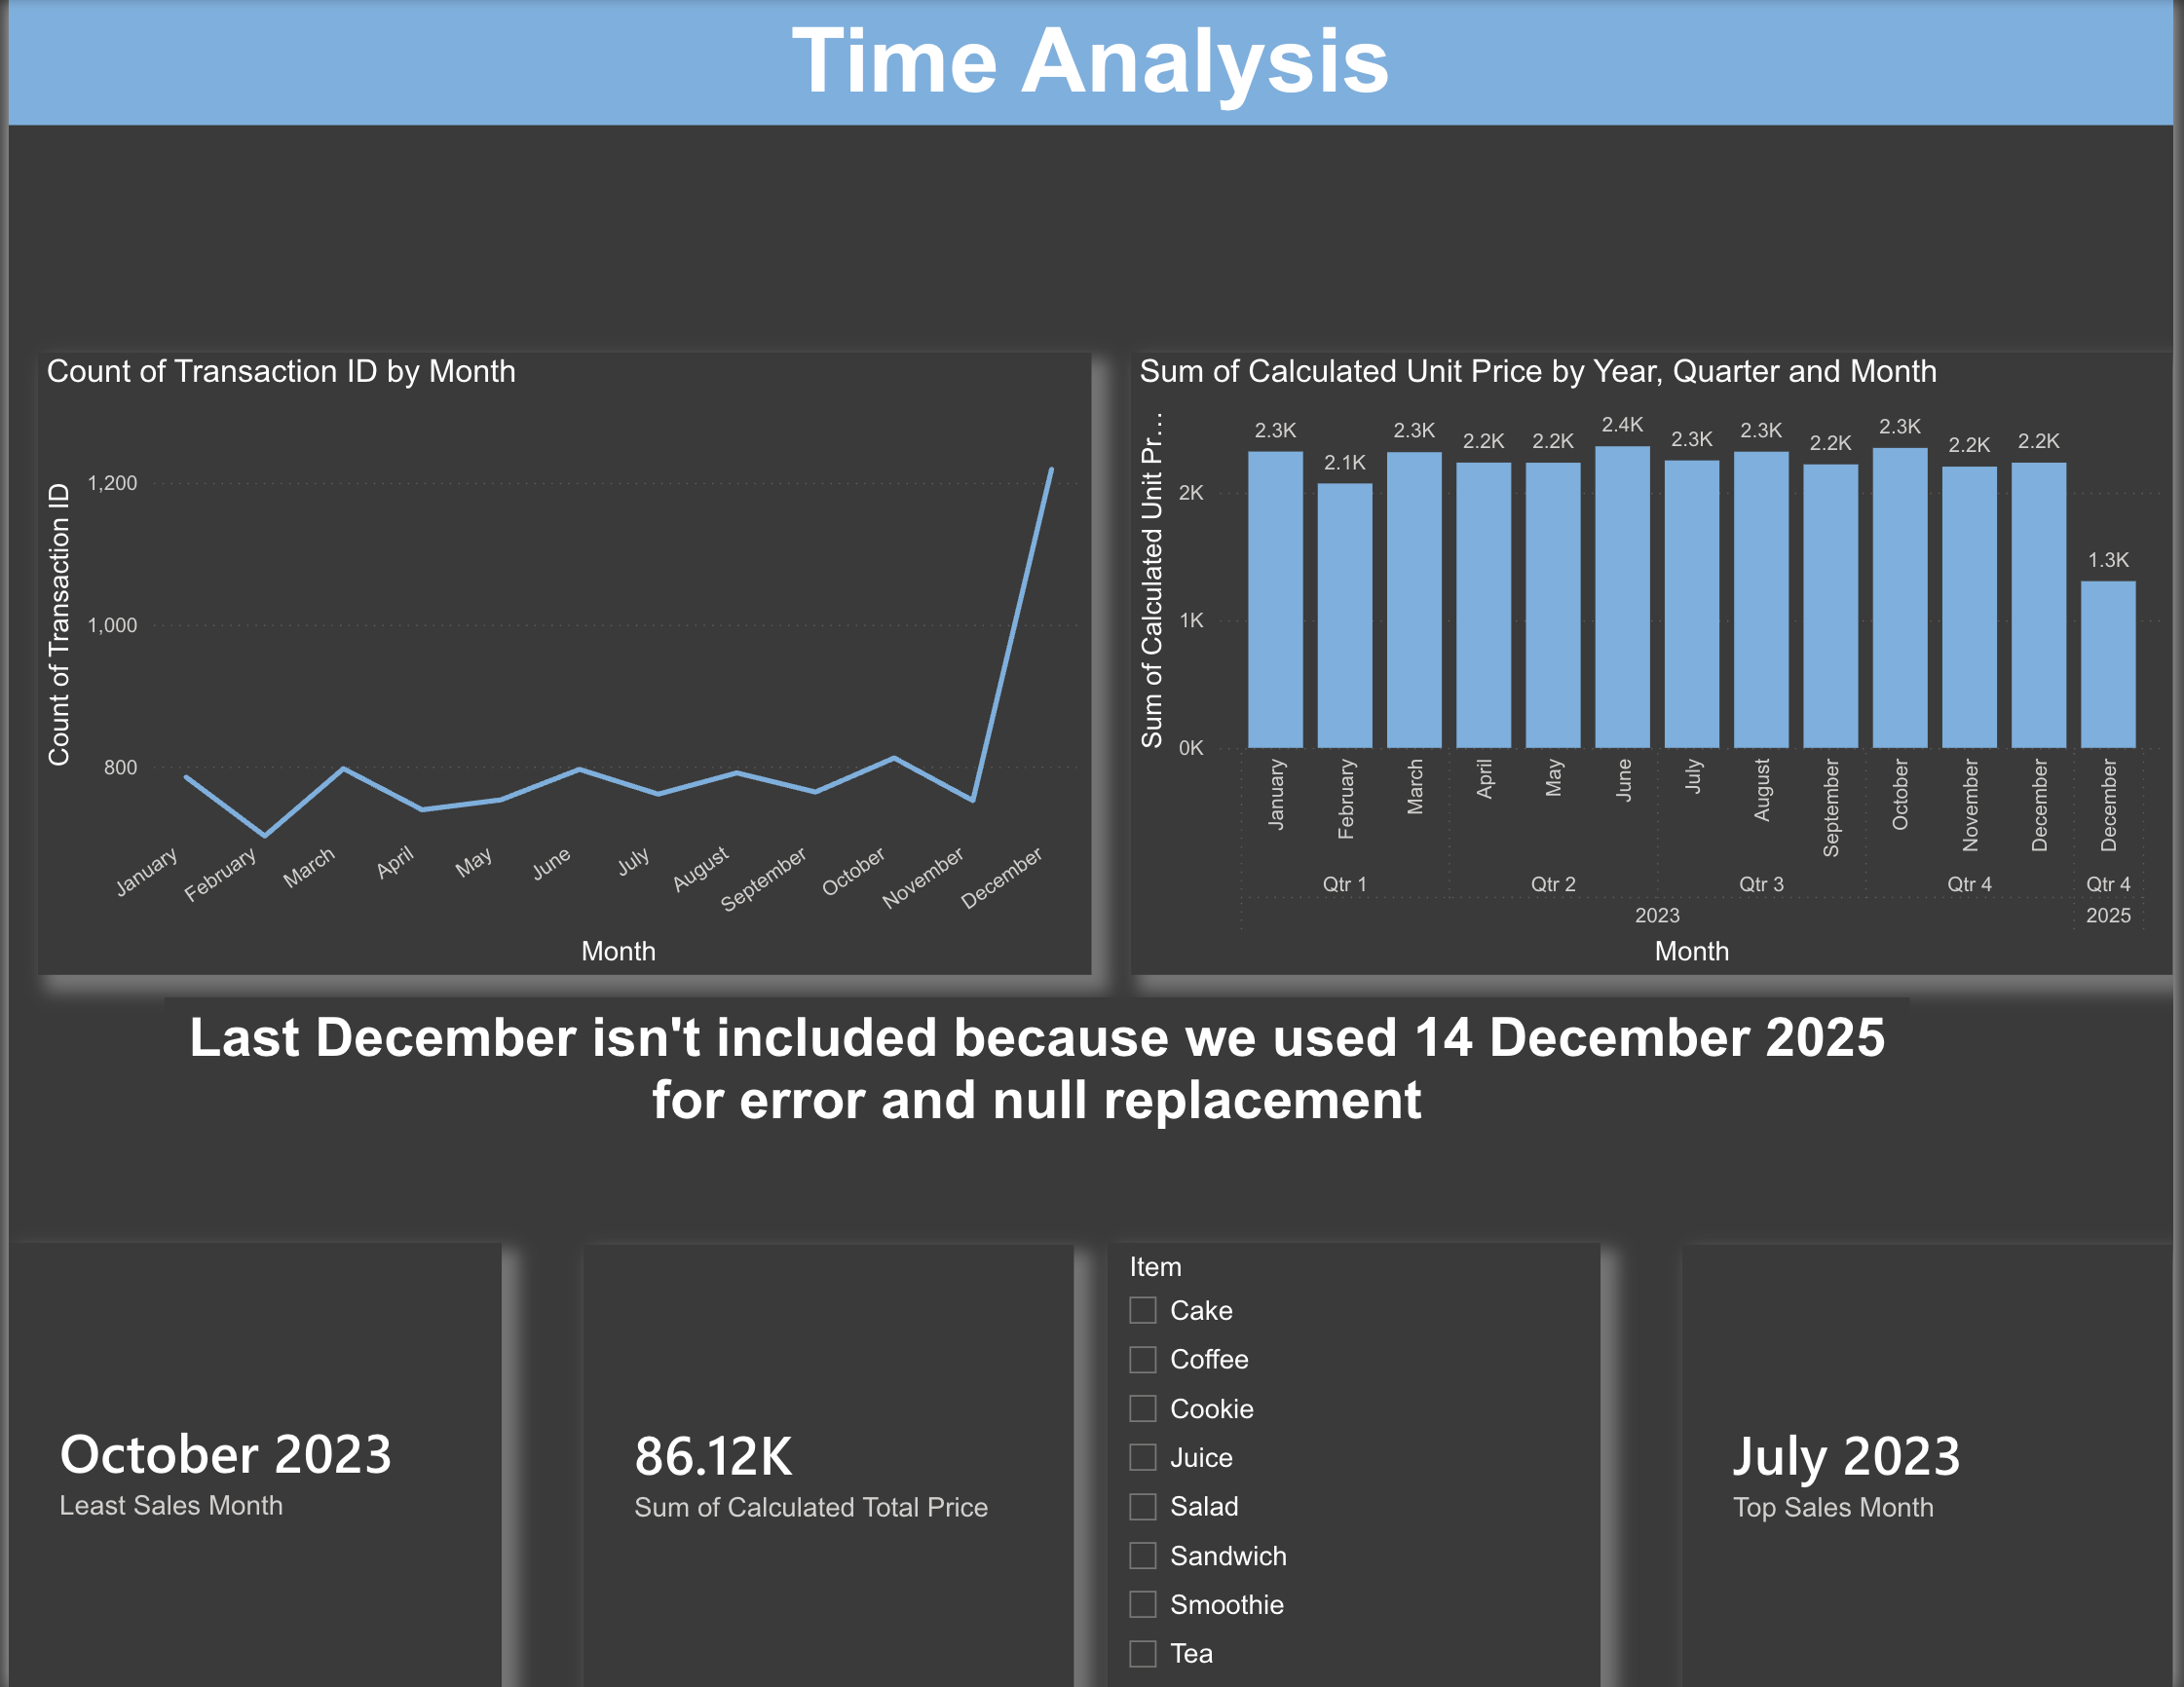

The page's visual inventory and layout, read from the dashboard file:
{"tool":"powerbi","page":{"name":"Time Analysis","canvas":[1280,1000],"ordinal":5},"visuals":[{"type":"lineChart","fields":{"Y":["Count(dirty_cafe_sales.Transaction ID)"],"Category":["dirty_cafe_sales.Transaction Date.Variation.Date Hierarchy.Month"]},"box":[17.8,208.6,623,367.8],"z":0},{"type":"textbox","box":[0,0,1280.3,74.1],"z":1000},{"type":"columnChart","fields":{"Y":["Sum(dirty_cafe_sales.Calculated Unit Price)"],"Category":["dirty_cafe_sales.Transaction Date.Variation.Date Hierarchy.Year","dirty_cafe_sales.Transaction Date.Variation.Date Hierarchy.Quarter","dirty_cafe_sales.Transaction Date.Variation.Date Hierarchy.Month"]},"box":[664.2,208.6,616.1,367.8],"z":2000},{"type":"textbox","box":[91.9,590.1,1031.9,130.4],"z":3000},{"type":"cardVisual","fields":{"Data":["dirty_cafe_sales.Least Sales Month (Excl Dec 2025)"]},"box":[0,735.3,291.6,264.7],"z":4000},{"type":"cardVisual","fields":{"Data":["Sum(dirty_cafe_sales.Calculated Total Price)"]},"box":[340,736,290,264],"z":5000},{"type":"slicer","fields":{"Values":["dirty_cafe_sales.Item"]},"box":[650,735.3,291.6,264.7],"z":6000},{"type":"cardVisual","fields":{"Data":["dirty_cafe_sales.Top Sales Month"]},"box":[990,736,290,264],"z":7000}]}

Visuals, with their boxes in screenshot pixels (x1, y1, x2, y2), scaled from the page's 1280x1000 canvas onto the 2184x1687 screenshot:
lineChart - Count(dirty_cafe_sales.Transaction ID) x dirty_cafe_sales.Transaction Date.Variation.Date Hierarchy.Month: box(30, 352, 1093, 972)
textbox: box(0, 0, 2183, 125)
columnChart - Sum(dirty_cafe_sales.Calculated Unit Price) x dirty_cafe_sales.Transaction Date.Variation.Date Hierarchy.Year: box(1133, 352, 2183, 972)
textbox: box(157, 995, 1917, 1216)
cardVisual - dirty_cafe_sales.Least Sales Month (Excl Dec 2025): box(0, 1241, 498, 1686)
cardVisual - Sum(dirty_cafe_sales.Calculated Total Price): box(581, 1242, 1074, 1686)
slicer - dirty_cafe_sales.Item: box(1110, 1241, 1606, 1686)
cardVisual - dirty_cafe_sales.Top Sales Month: box(1689, 1242, 2183, 1686)
